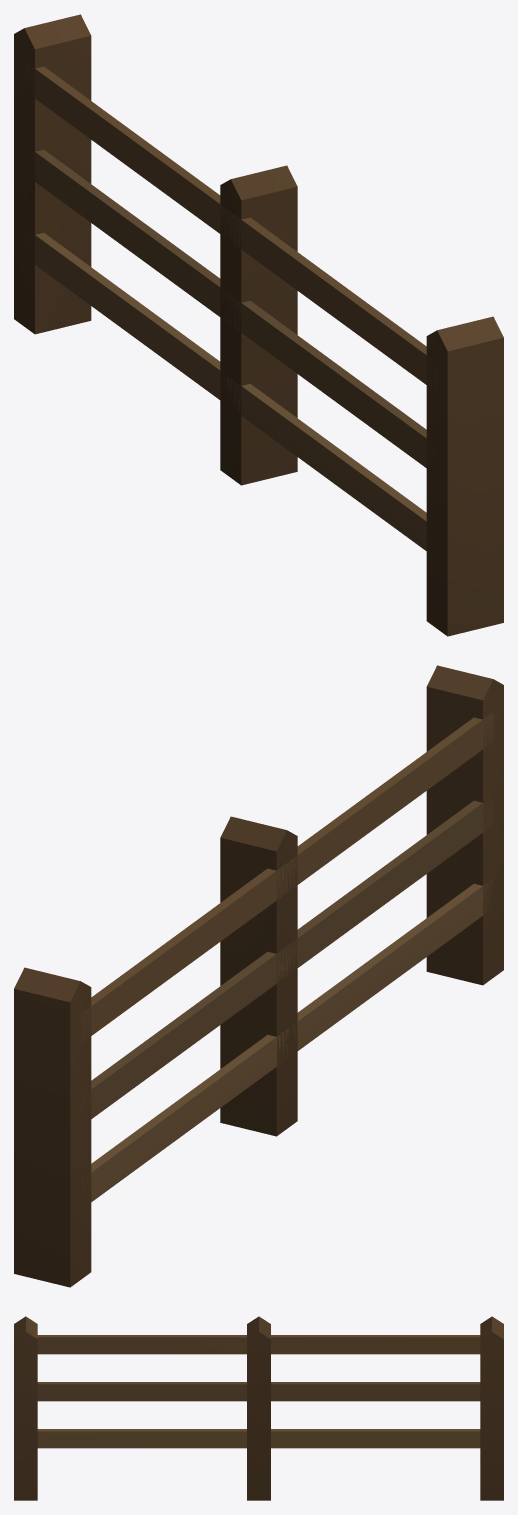
Rendered from fence.town.rails.glb.
3 renders of one model, top to bottom at view 1: azimuth 30°, elevation 25°; view 2: azimuth 150°, elevation 25°; view 3: azimuth 270°, elevation 25°, orthographic. The views are drawn at different scales.
Visible parts, largest first — view 1: fence_town_rails; view 2: fence_town_rails; view 3: fence_town_rails.
Boxes of the visible parts, x1,y1,x2,y2 form: fence_town_rails: (14, 14, 503, 636); fence_town_rails: (14, 665, 503, 1287); fence_town_rails: (14, 1316, 503, 1500).
Size of what is drawn, in the model's own units: 0.217 by 1.1 by 2.89.
